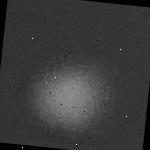colony: (13, 48, 121, 149)
